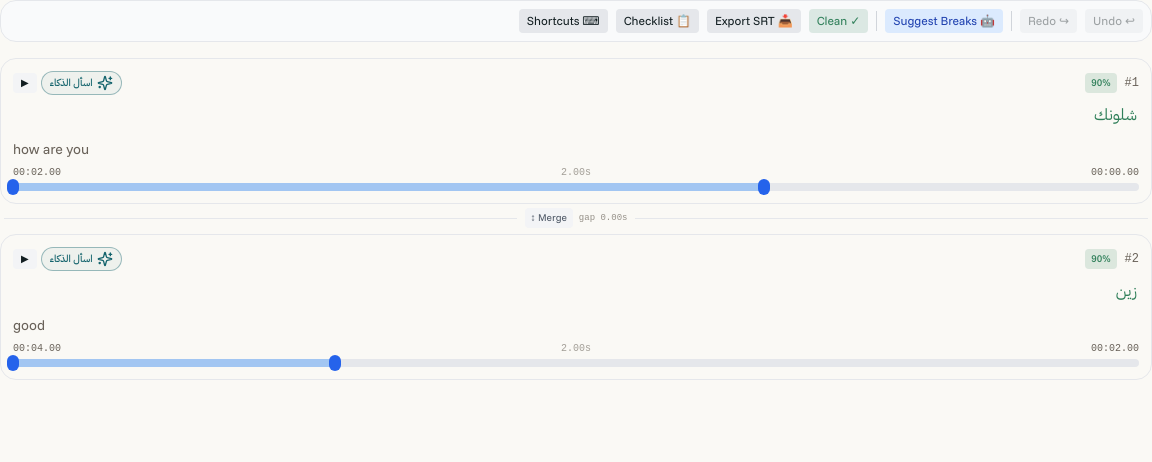
keyboard shortcuts › leaves the line on screen showing the words it had before the edit
Click the button "شلونك": (1116, 114) [1092,104,1139,124]
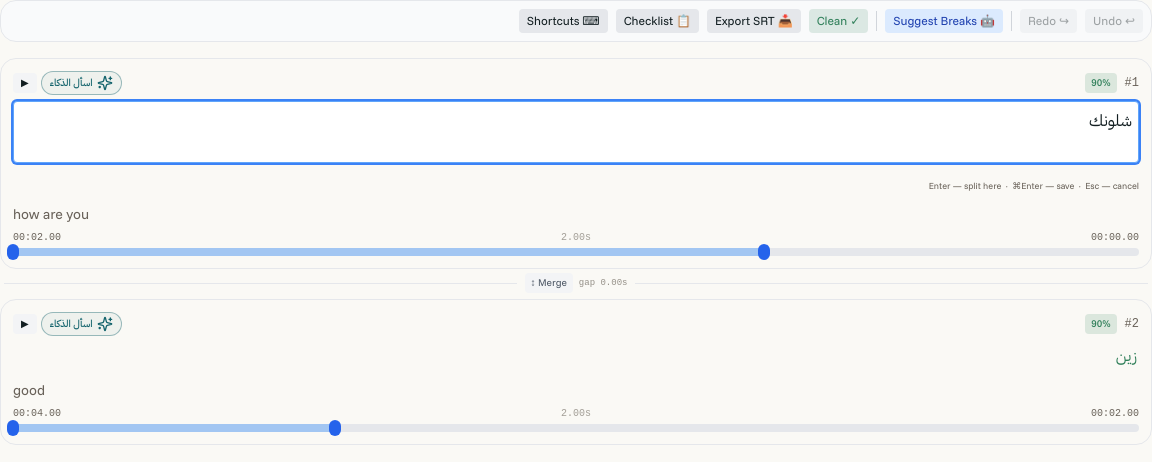
Replace the text in the text box with "شلونكم": (576, 132) [13,101,1139,163]
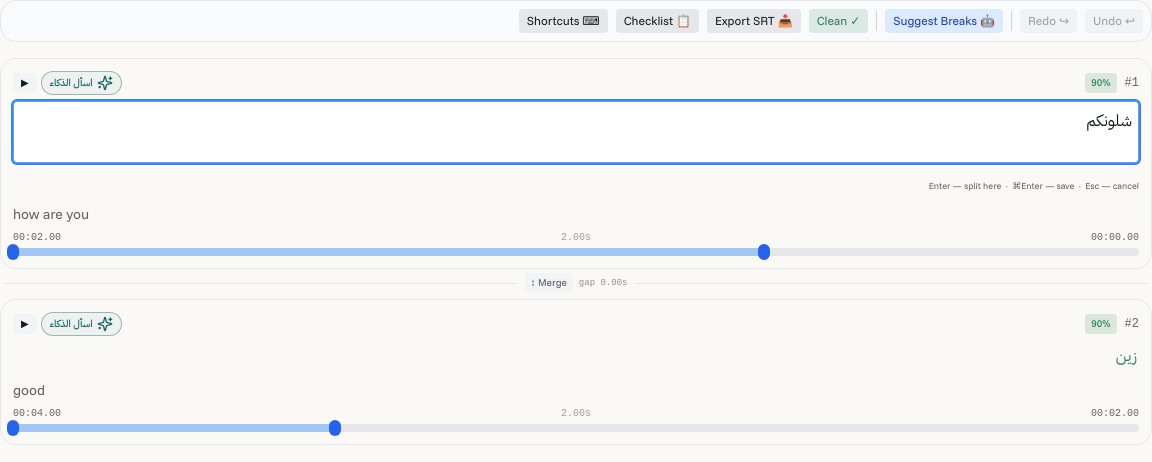
Leave the text box, box [13,101,1139,163]
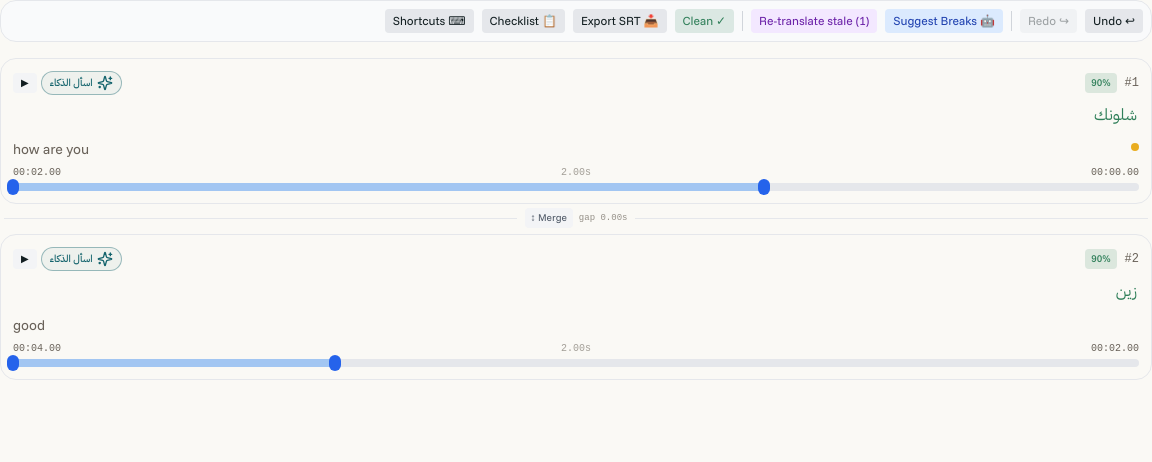
Check: the button "شلونك" is shown, box [1092,104,1139,124]
